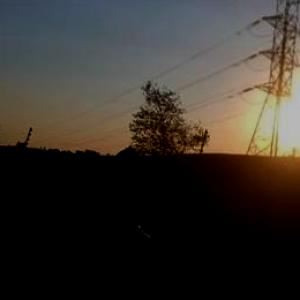follow: (78, 142, 160, 299)
